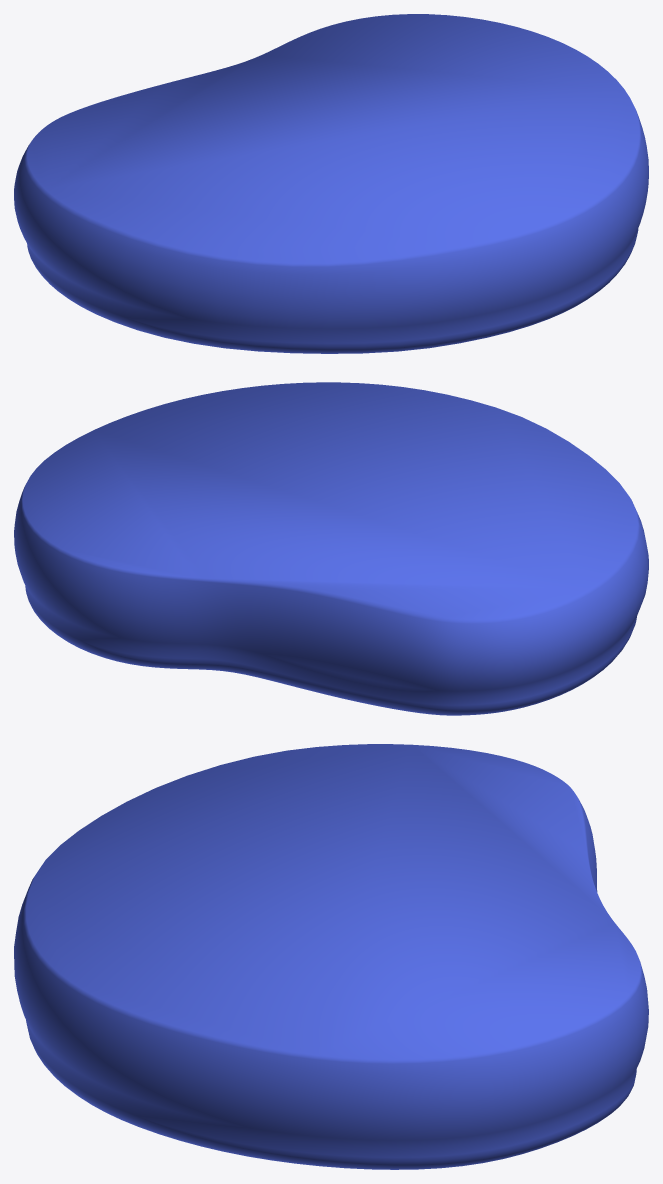
File: vacuola.glb
The picture shows the model from 3 angles, top to bottom: view 1: azimuth 30°, elevation 25°; view 2: azimuth 150°, elevation 25°; view 3: azimuth 270°, elevation 25°; orthographic projection. The views are drawn at different scales.
Visible parts, largest first — view 1: vacuola; view 2: vacuola; view 3: vacuola.
Part boxes in pixels (x1,y1,x2,y2): vacuola: (14, 14, 648, 353); vacuola: (14, 382, 648, 715); vacuola: (14, 744, 648, 1169).
Size of the model in its own units: 0.8443 by 0.1602 by 0.6989.
